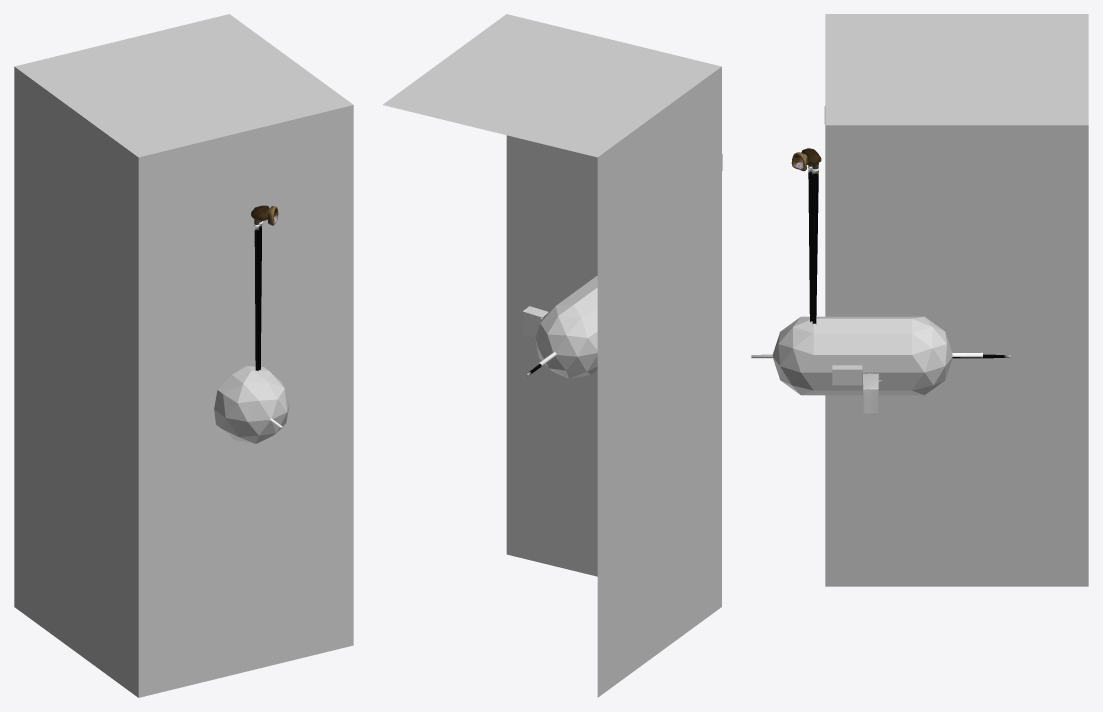
File: checkoutcounter.fbx
The picture shows the model from 3 angles, left to right: view 1: azimuth 30°, elevation 25°; view 2: azimuth 150°, elevation 25°; view 3: azimuth 270°, elevation 25°; orthographic projection. The views are drawn at different scales.
Parts seen in each view (by area): view 1: building, cloud, cosmetics room entrance lift; view 2: building, cloud, comptestroom; view 3: building, cloud, cosmetics room entrance slippery, comptestroom, cosmetics room entrance lift, shoppingcenter.
Part boxes in pixels (bbox=[...]): building: bbox=[14, 14, 353, 697]; cloud: bbox=[214, 366, 289, 443]; cosmetics room entrance lift: bbox=[254, 224, 259, 370]; building: bbox=[383, 14, 722, 697]; cloud: bbox=[535, 276, 597, 378]; comptestroom: bbox=[522, 306, 548, 337]; building: bbox=[824, 14, 1088, 586]; cloud: bbox=[772, 316, 952, 395]; cosmetics room entrance slippery: bbox=[811, 167, 819, 323]; comptestroom: bbox=[863, 373, 882, 416]; cosmetics room entrance lift: bbox=[808, 165, 812, 321]; shoppingcenter: bbox=[832, 365, 862, 385].
Bounding box in the file's own units: 16705 × 21364 × 40000.
